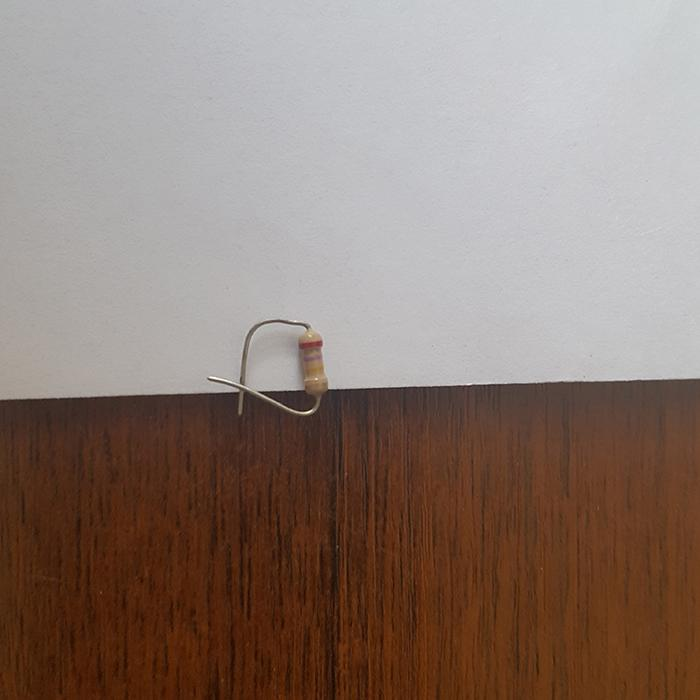resistor: (298, 327, 328, 395)
